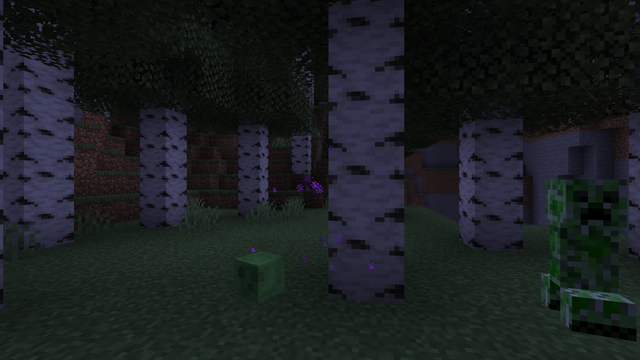creepers: (536, 172, 639, 335)
slimes: (233, 250, 281, 301)
